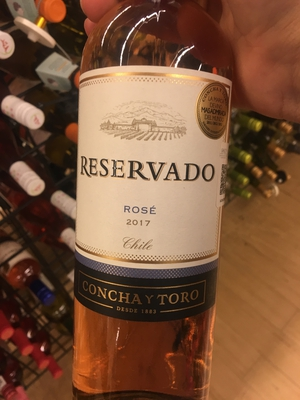reservado rose: (68, 22, 235, 400)
